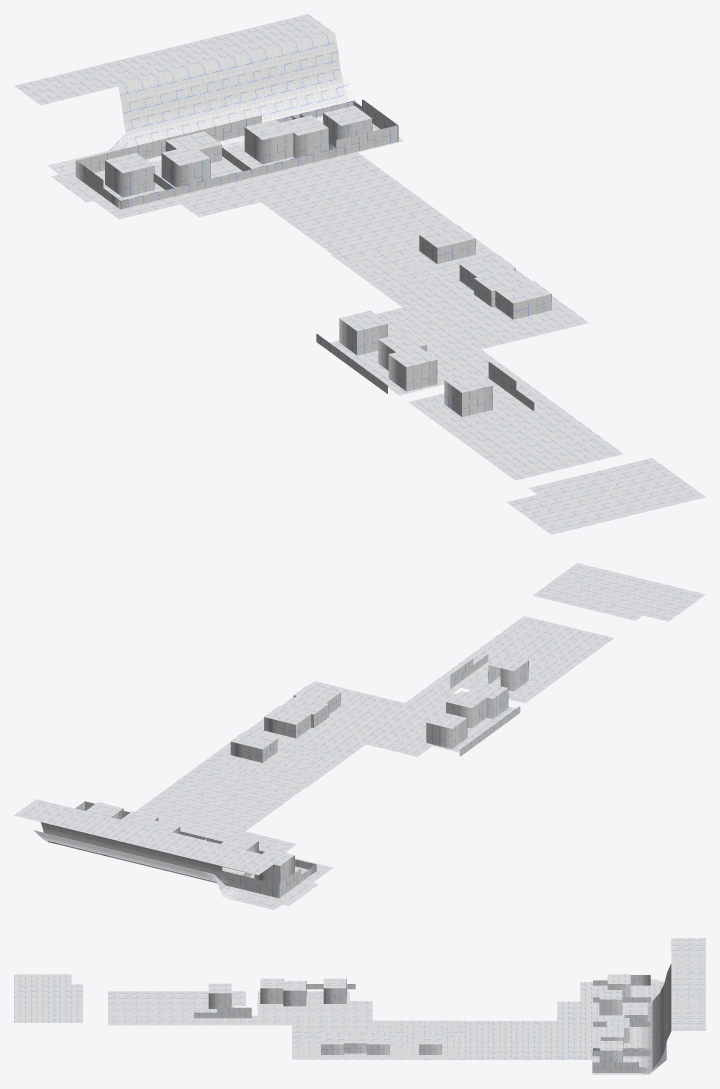
Rendered from Cityparts.fbx.
The picture shows the model from 3 angles, top to bottom: view 1: azimuth 30°, elevation 25°; view 2: azimuth 150°, elevation 25°; view 3: azimuth 270°, elevation 25°; orthographic projection. The views are drawn at different scales.
Parts seen in each view (by area): view 1: City_Center; view 2: City_Center; view 3: City_Center.
Part boxes in pixels (<box>): City_Center: <box>14,14,705,534</box>; City_Center: <box>14,563,705,909</box>; City_Center: <box>14,938,705,1074</box>.
Bounding box in the file's own units: 38.97 × 7.9 × 120.
